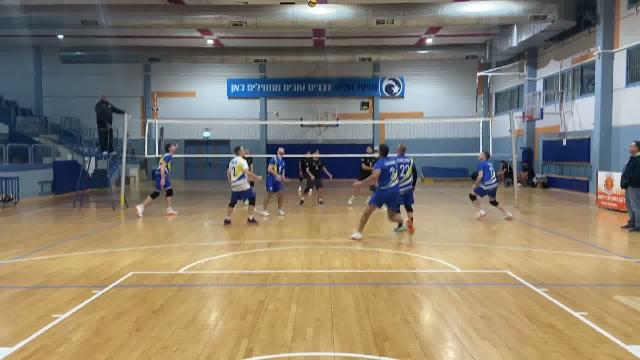ball: (305, 0, 323, 9)
